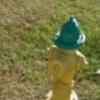a fire hydrant: (46, 15, 90, 100)
